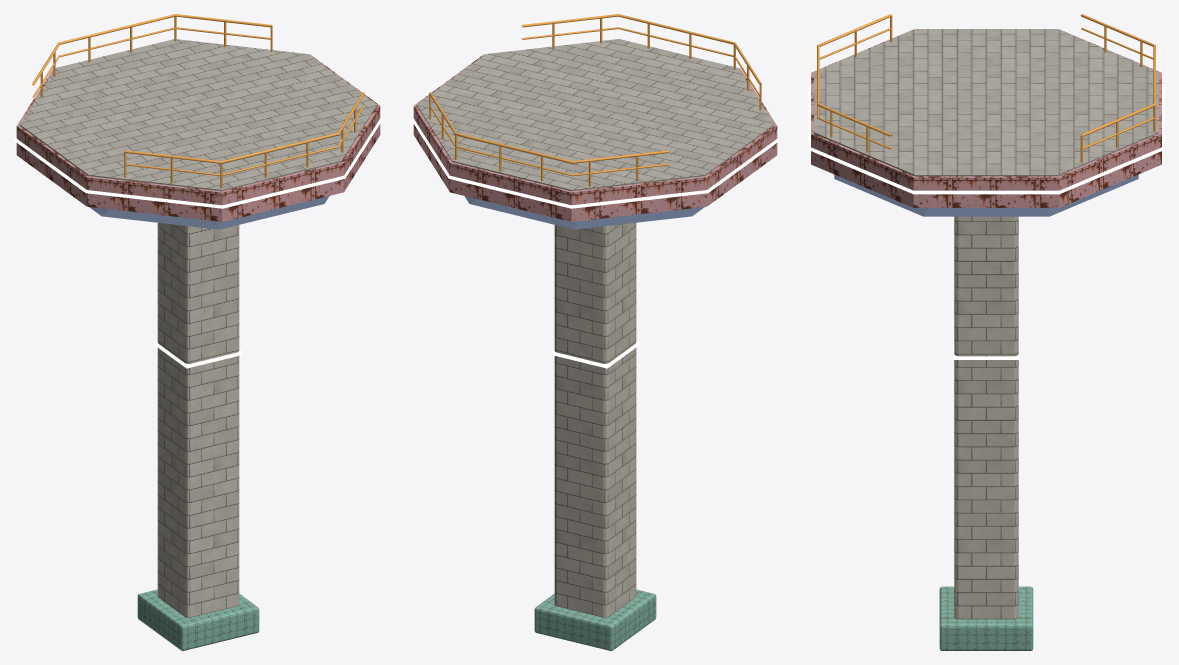
The model's file is HubD.glb.
3 renders of one model, left to right at view 1: azimuth 30°, elevation 25°; view 2: azimuth 150°, elevation 25°; view 3: azimuth 270°, elevation 25°, orthographic. The views are drawn at different scales.
Parts seen in each view (by area): view 1: HubD_Top, HubD_Body, HubD_Under, HubD_ColBase, HubD_Glow; view 2: HubD_Top, HubD_Body, HubD_Under, HubD_ColBase, HubD_Glow; view 3: HubD_Top, HubD_Body, HubD_Under, HubD_ColBase, HubD_Glow.
Part boxes in pixels (x1,y1,x2,y2): HubD_Top: (19,39,377,617); HubD_Body: (16,39,380,221); HubD_Under: (32,14,364,229); HubD_ColBase: (137,589,259,650); HubD_Glow: (14,117,382,368); HubD_Top: (416,39,774,617); HubD_Body: (413,39,777,221); HubD_Under: (429,14,761,229); HubD_ColBase: (534,589,656,650); HubD_Glow: (411,117,779,368); HubD_Top: (814,29,1158,619); HubD_Body: (811,29,1161,207); HubD_Under: (817,14,1155,216); HubD_ColBase: (939,586,1033,650); HubD_Glow: (808,85,1164,359).
Bounding box in the file's own units: 12.18 × 21.05 × 12.18.
Materials: 5 (3 with a texture image).
